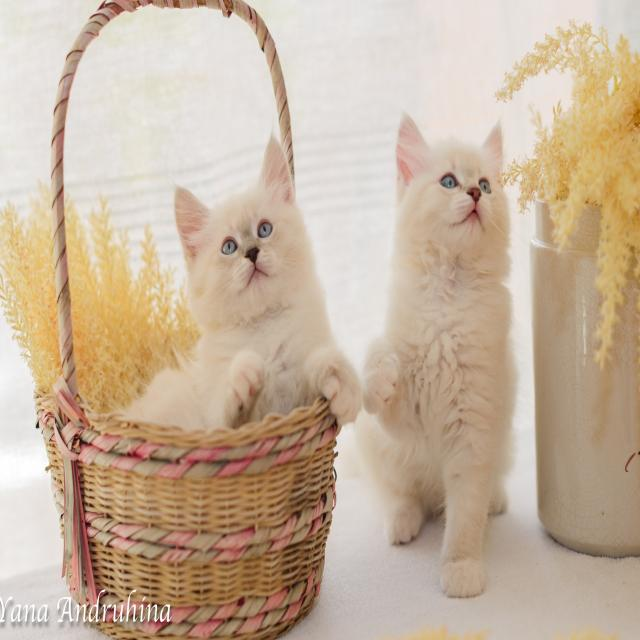Neva Masquerade: (360, 107, 523, 606), (112, 128, 359, 433)
